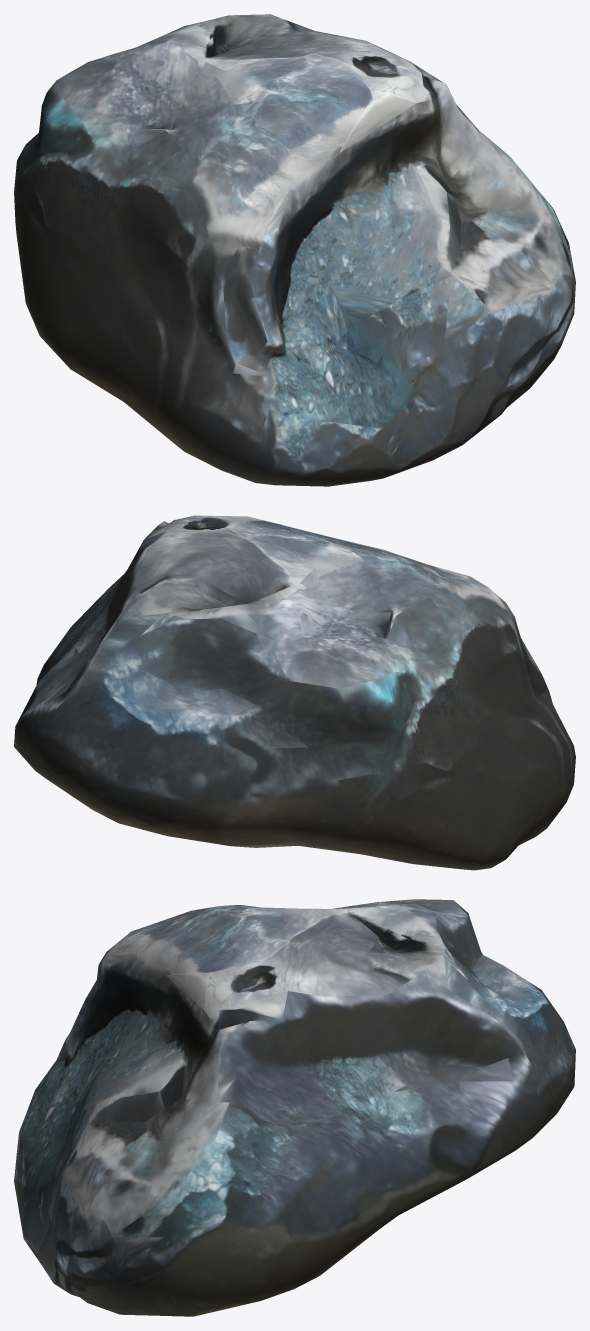
File: IronOre.glb
3 renders of one model, top to bottom at view 1: azimuth 30°, elevation 25°; view 2: azimuth 150°, elevation 25°; view 3: azimuth 270°, elevation 25°, orthographic. The views are drawn at different scales.
Parts seen in each view (by area): view 1: IronOre.001; view 2: IronOre.001; view 3: IronOre.001.
Boxes of the visible parts, bbox=[...] form: IronOre.001: bbox=[14, 14, 575, 486]; IronOre.001: bbox=[14, 515, 575, 870]; IronOre.001: bbox=[14, 899, 575, 1316].
Bounding box in the file's own units: 0.0828 × 0.0559 × 0.0851.
Materials: 1 (1 with a texture image).
